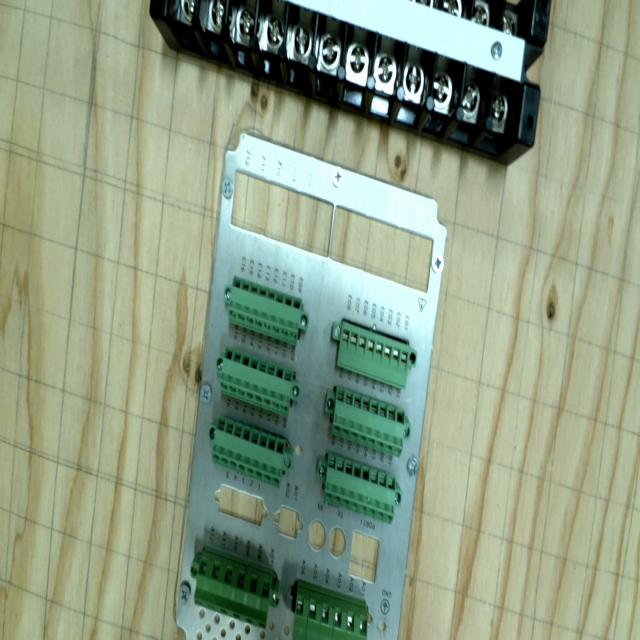Terminal_1: (185, 556, 281, 629)
Terminal_2: (203, 415, 296, 488), (313, 452, 407, 524), (322, 387, 415, 458), (212, 347, 303, 417), (220, 276, 311, 345)
